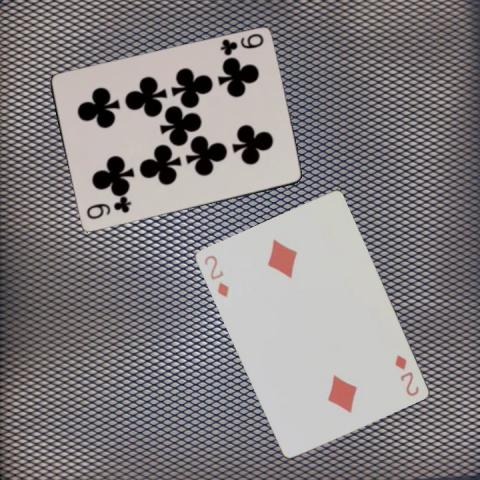2d: (200, 252, 230, 299), (391, 352, 420, 398)
9c: (217, 31, 265, 57), (83, 197, 133, 221)
